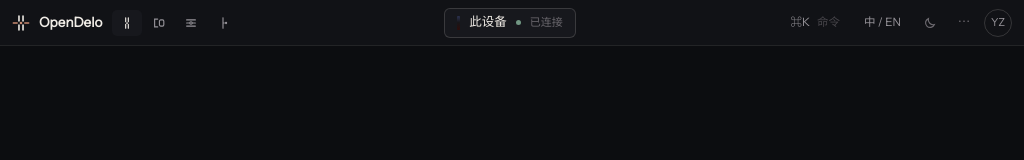
Test: 溢出菜单 › 收起时菜单不在 DOM 里，展开状态写在按钮上
Click the button named "更多选项".
click(964, 22)  # box [950,8,978,36]
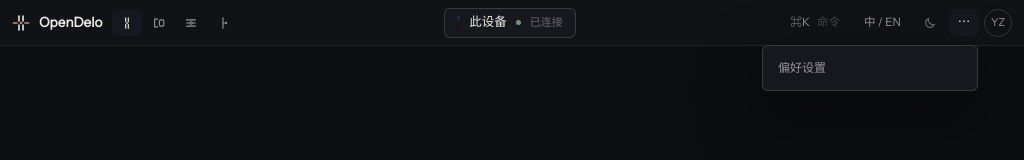
Now the menu named "更多选项" is shown, box [762,44,978,90]
